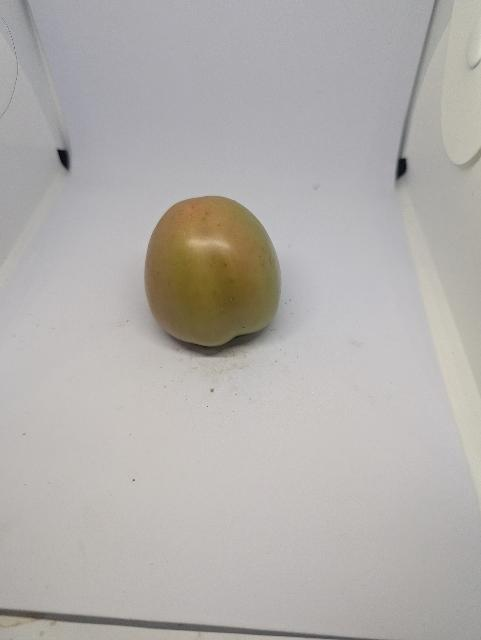breaker: (145, 196, 281, 346)
